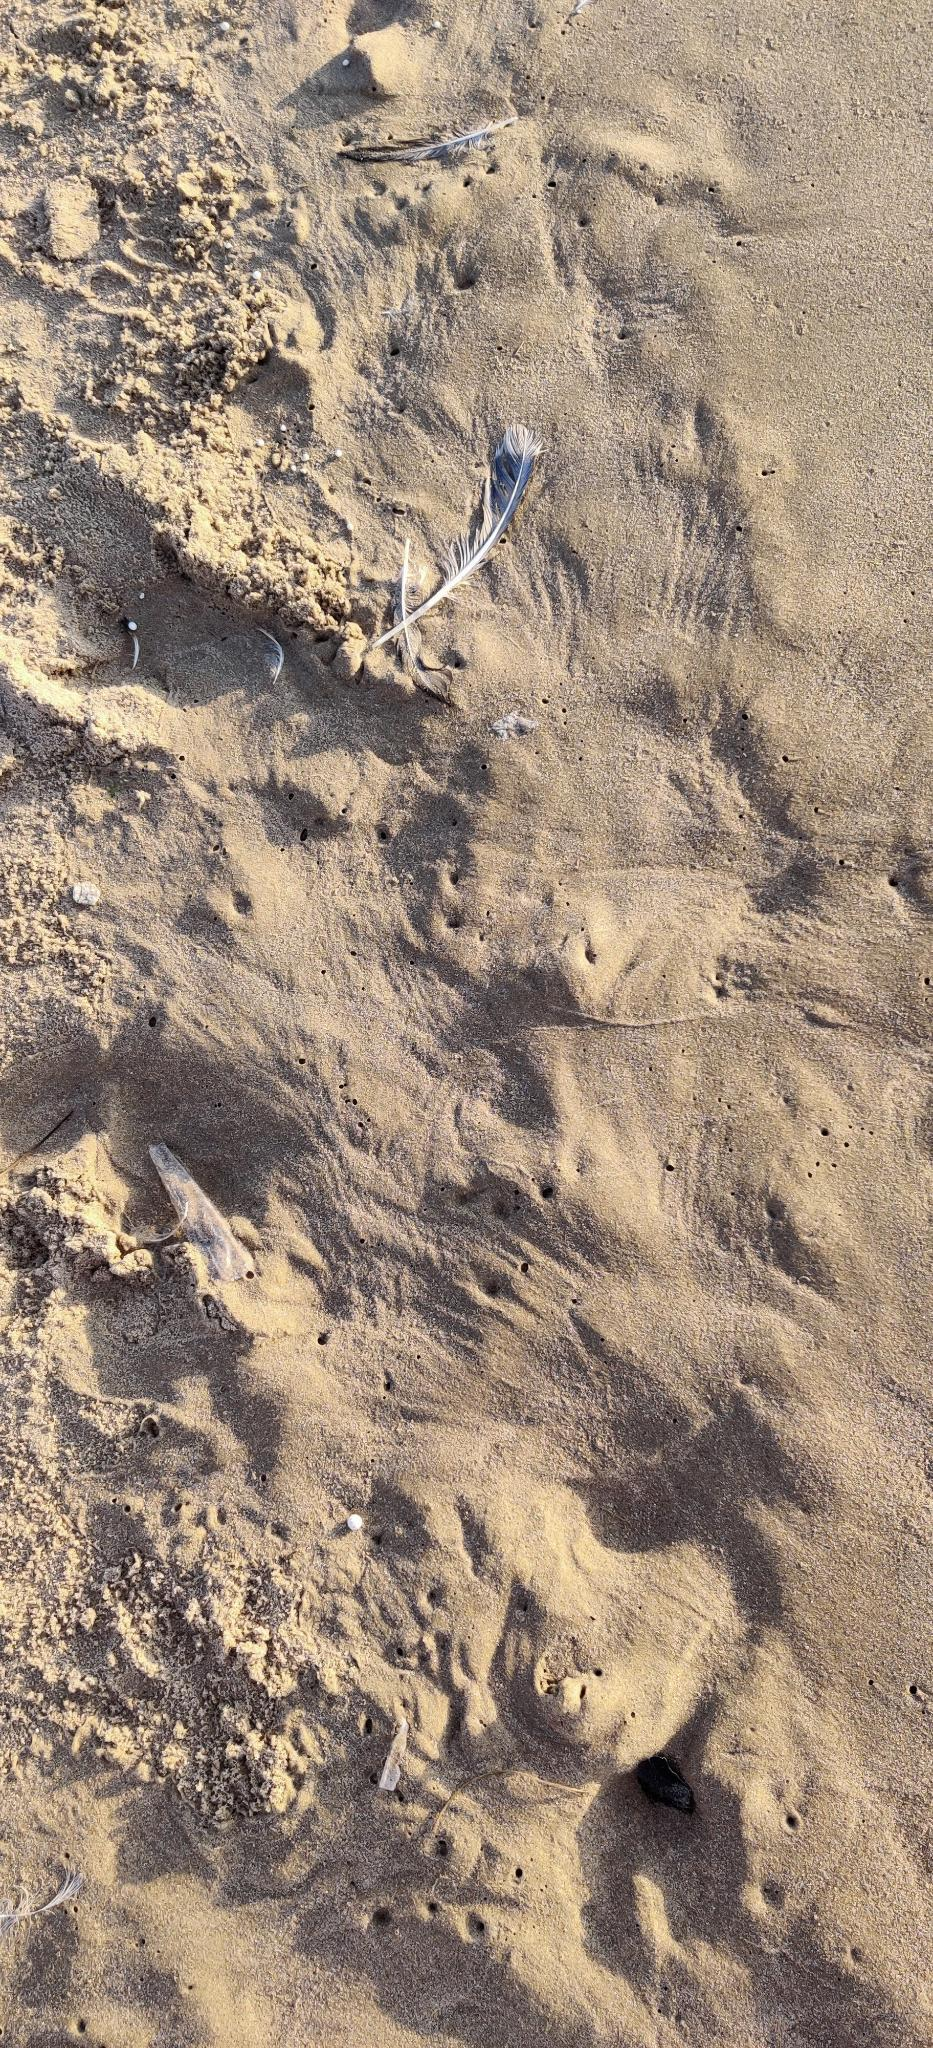Plastic: (131, 1138, 263, 1294)
